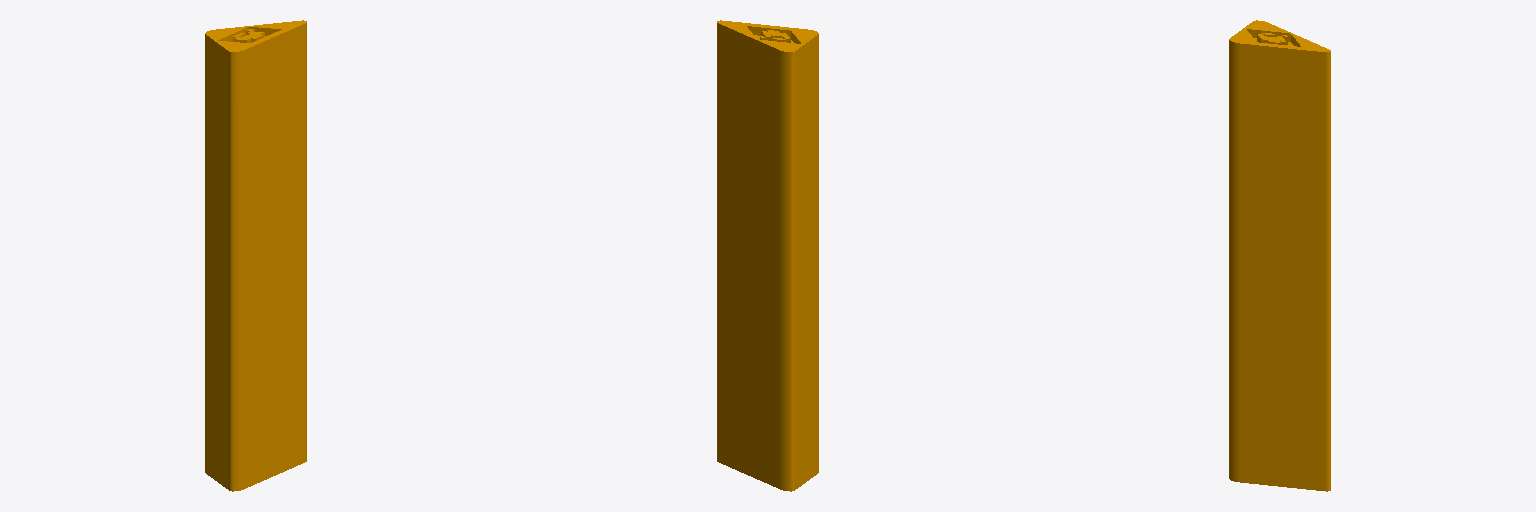
robot.urdf — 40x40_Triangle:
<?xml version="1.0" ?>
<robot name="40x40_Triangle">

    <link name="40x40_Triangle">
        <visual>
            <origin rpy="1.5707963267948966 0 0" xyz="-0.0025 0 -0.0"/>
            <geometry>
                <mesh filename="Shapes/40x40_triangle.obj" scale="0.707 1 0.3535"/>
            </geometry>
        </visual>
        <collision>
            <origin rpy="1.5707963267948966 0 0" xyz="-0.0025 0 -0.0"/>
            <geometry>
                <mesh filename="Shapes/40x40_triangle.obj" scale="0.707 1 0.3535"/>
            </geometry>
        </collision>
        <inertial>
            <mass value="0.3"/>
            <inertia ixx="0.000029435425" ixy="0.0" ixz="0.0" iyy="0.000029435425" iyz="0.0" izz="0.00000725805"/>
        </inertial>
    </link>

</robot>

--- Render facts (derived) ---
Views: 3 orthographic renders of the robot side by side, from view 1: azimuth 30°, elevation 25°; view 2: azimuth 150°, elevation 25°; view 3: azimuth 330°, elevation 25°.
Robot: 40x40_Triangle — 1 links, 0 joints (none); root link 40x40_Triangle; default pose: every joint at zero.
Visible links, largest first — view 1: 40x40_Triangle; view 2: 40x40_Triangle; view 3: 40x40_Triangle.
Boxes of the visible links, left/top/right/bottom form: 40x40_Triangle: left=205, top=20, right=306, bottom=491; 40x40_Triangle: left=717, top=20, right=818, bottom=491; 40x40_Triangle: left=1229, top=20, right=1330, bottom=491.
Size in the robot's own frame: 0.0224 by 0.0126 by 0.105 metres.
Meshes: 1 distinct files referenced, 1 mesh visuals loaded (1 OBJ).
